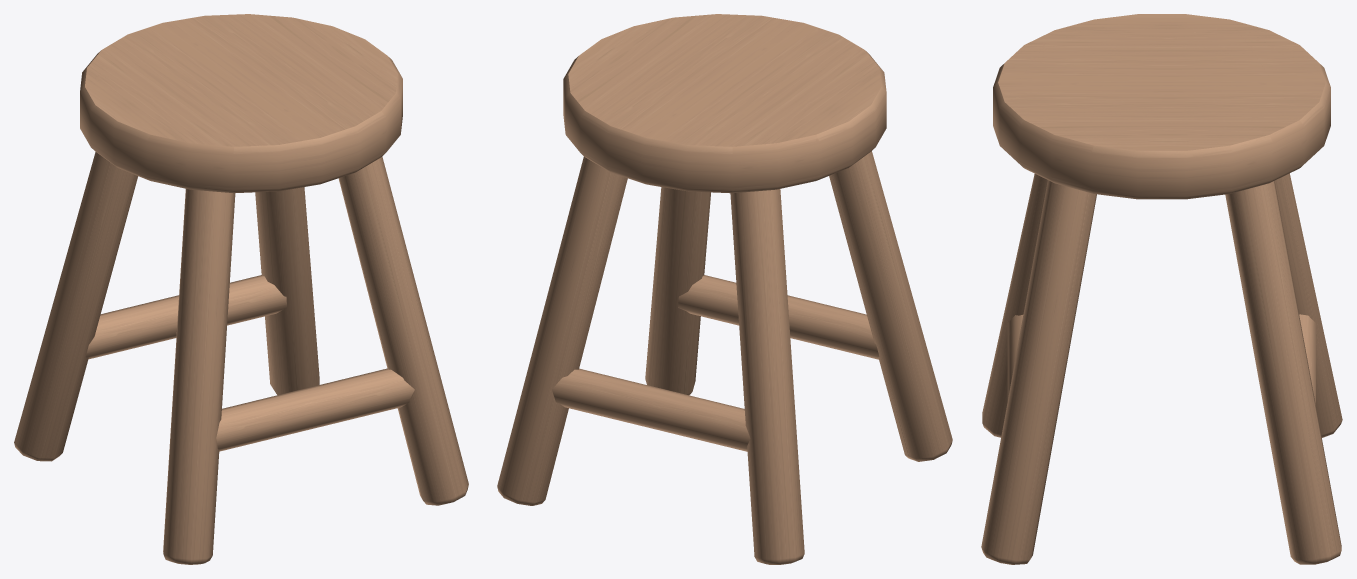
Rendered from small_round_bench.glb.
3 views of the same model, side by side, from view 1: azimuth 30°, elevation 25°; view 2: azimuth 150°, elevation 25°; view 3: azimuth 270°, elevation 25° (orthographic). The views are drawn at different scales.
Parts seen in each view (by area): view 1: small round bench; view 2: small round bench; view 3: small round bench.
Part boxes in pixels (x1,y1,x2,y2): small round bench: (14,14,468,564); small round bench: (497,14,952,564); small round bench: (981,14,1342,564).
Size of the model in its own units: 0.7164 by 0.9078 by 0.7164.
1 material, 1 textured.
